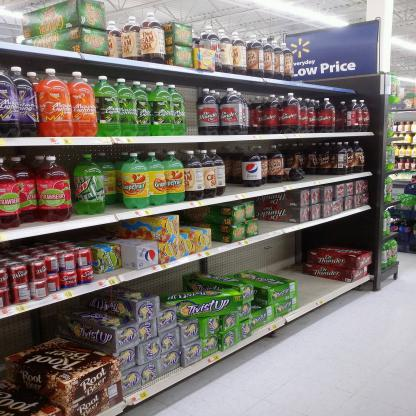Void: (285, 238, 333, 293), (2, 319, 55, 345), (254, 199, 296, 222), (180, 86, 199, 134), (182, 211, 230, 227)
